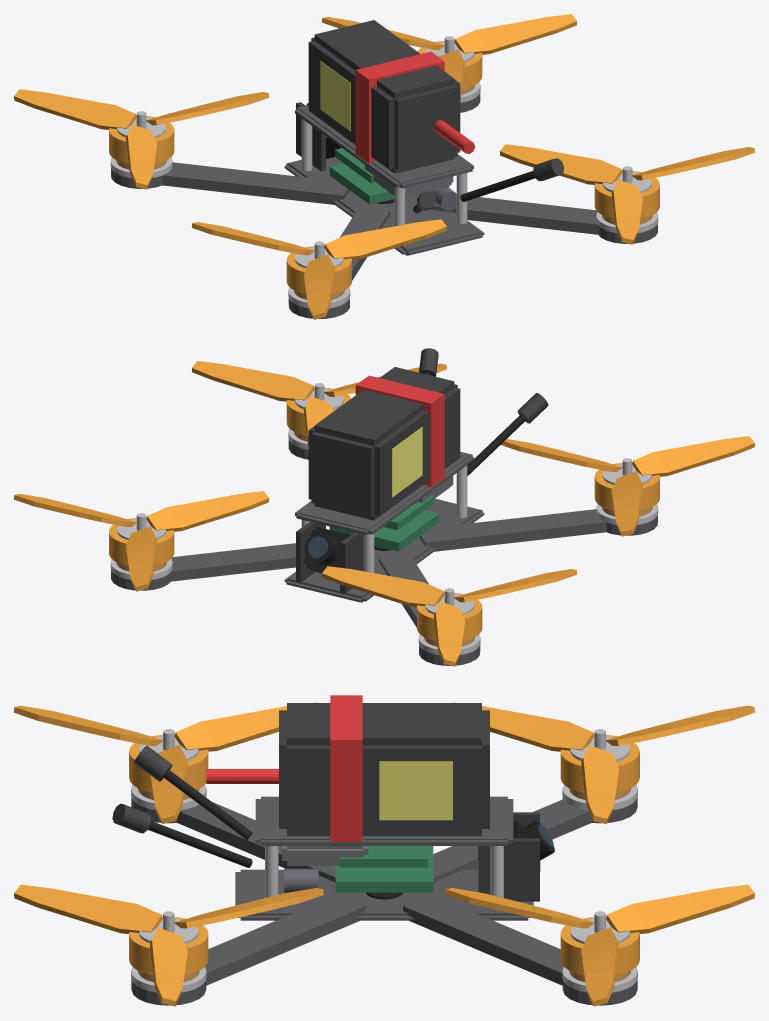
The model's file is titan5.glb.
The picture shows the model from 3 angles, top to bottom: view 1: azimuth 30°, elevation 25°; view 2: azimuth 150°, elevation 25°; view 3: azimuth 270°, elevation 25°; orthographic projection. The views are drawn at different scales.
Parts seen in each view (by area): view 1: body, prop_FL, prop_RL, prop_RR, prop_FR, cam_mount; view 2: body, prop_FL, prop_FR, prop_RL, prop_RR, cam_mount, fpv_cam; view 3: body, prop_FR, prop_RR, prop_FL, prop_RL, cam_mount, fpv_cam.
Part boxes in pixels (x1,y1,x2,y2): body: [109, 20, 659, 318]; prop_FL: [14, 89, 394, 203]; prop_RL: [191, 219, 446, 319]; prop_RR: [499, 144, 754, 244]; prop_FR: [322, 14, 576, 100]; cam_mount: [296, 102, 325, 171]; body: [109, 348, 659, 665]; prop_FL: [322, 545, 576, 666]; prop_FR: [14, 491, 269, 591]; prop_RL: [501, 436, 754, 536]; prop_RR: [192, 361, 446, 447]; cam_mount: [296, 521, 363, 593]; fpv_cam: [303, 527, 349, 573]; body: [112, 695, 639, 1005]; prop_FR: [445, 884, 754, 1006]; prop_RR: [14, 884, 323, 1006]; prop_FL: [366, 702, 754, 899]; prop_RL: [14, 702, 316, 824]; cam_mount: [478, 812, 539, 901]; fpv_cam: [478, 820, 554, 871].
Bounding box in the file's own units: 0.2594 × 0.078 × 0.2748.
